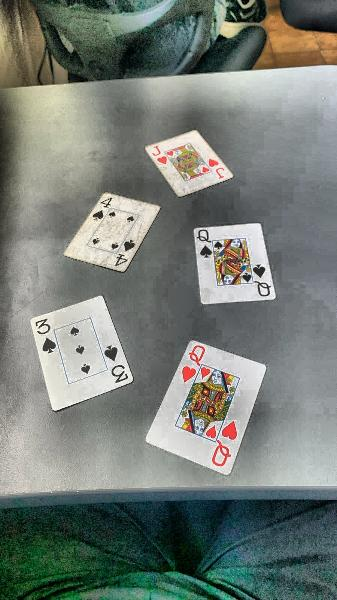3P: (97, 339, 138, 391), (30, 312, 63, 358)
4P: (106, 235, 148, 278), (82, 186, 122, 227)
JC: (205, 154, 232, 184), (146, 140, 173, 169)
QD: (201, 414, 250, 476), (166, 329, 207, 382)
QP: (250, 257, 278, 305), (195, 222, 214, 262)
